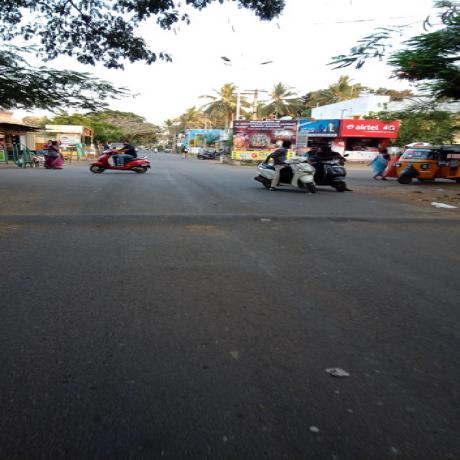Speed Bump: (0, 213, 458, 227)
